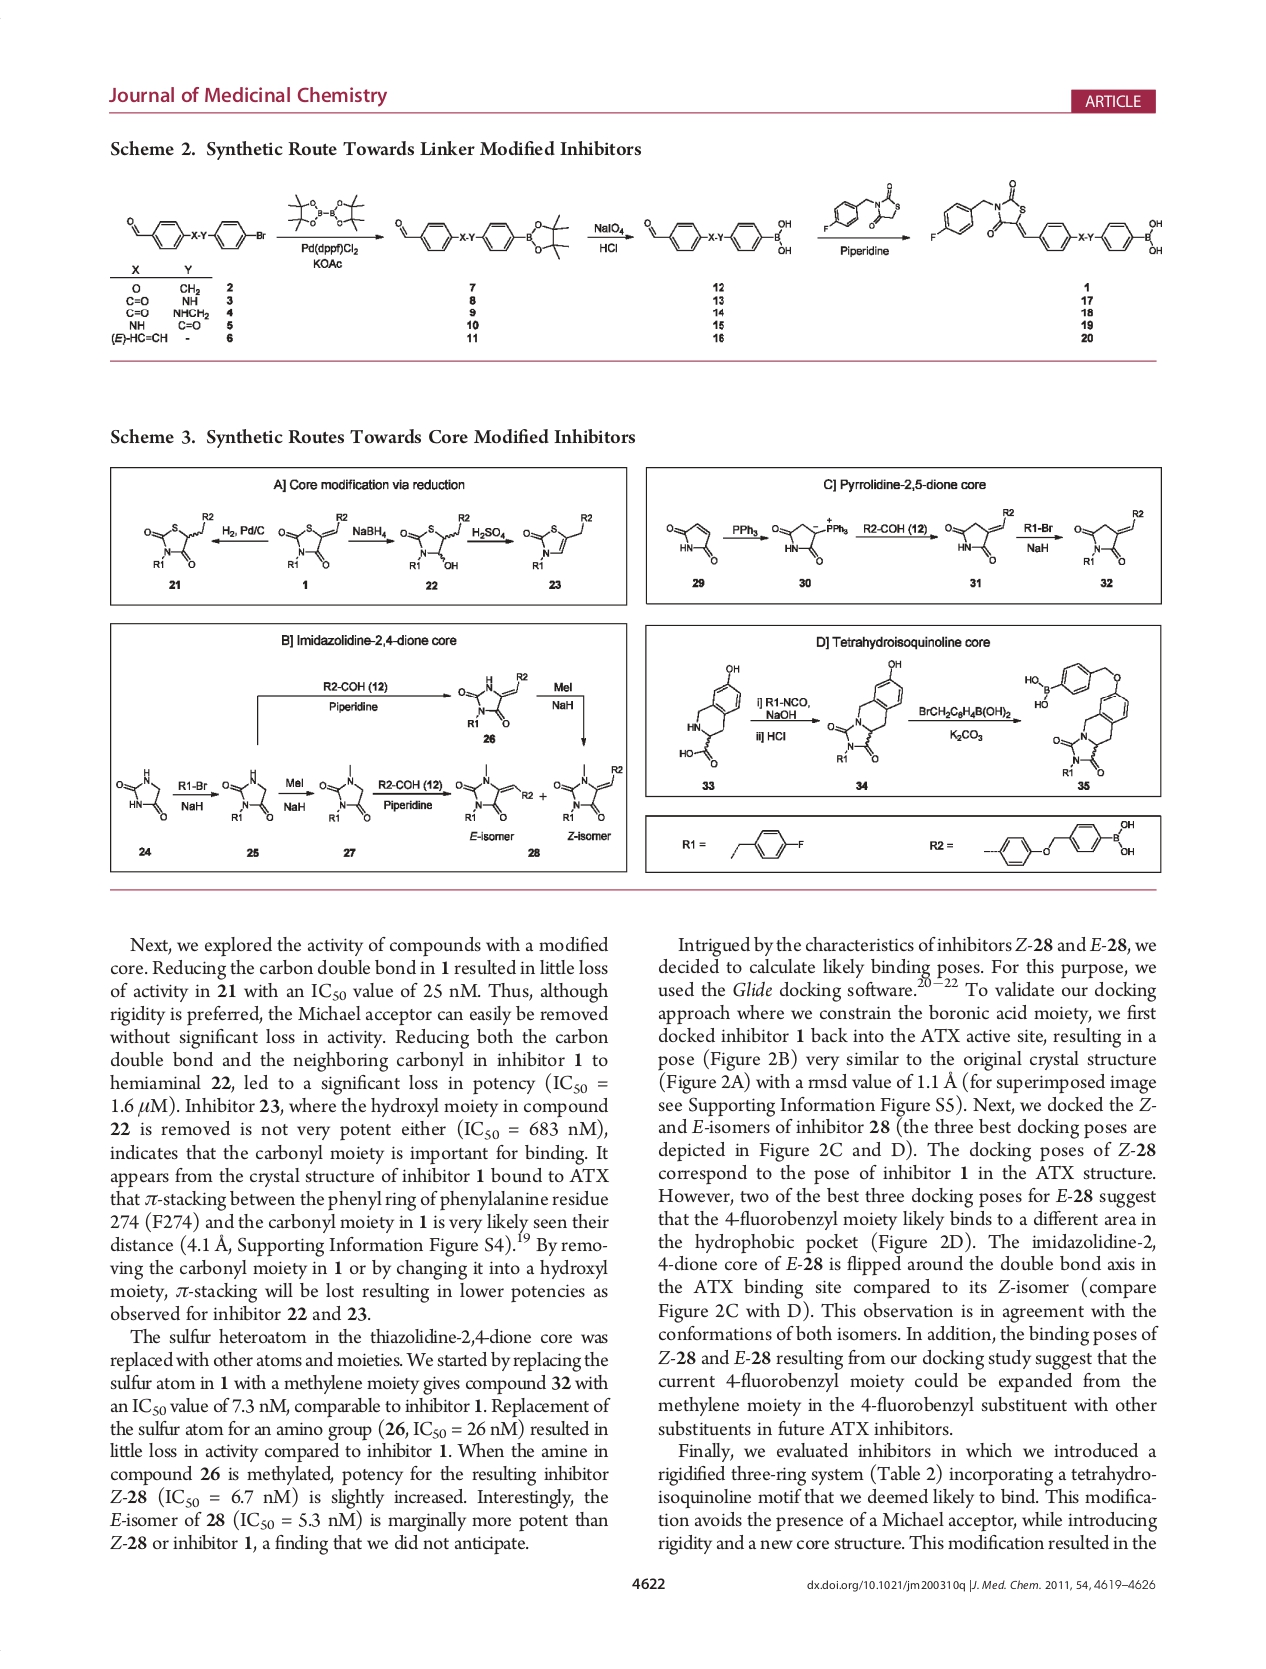exist_molecular: (930, 176, 1165, 259), (1023, 660, 1130, 781), (390, 210, 574, 262), (823, 656, 907, 765), (676, 661, 746, 770), (981, 819, 1136, 868), (122, 211, 267, 254), (640, 215, 794, 255), (137, 505, 215, 573), (452, 762, 536, 825), (1071, 507, 1148, 571), (455, 668, 532, 730), (520, 509, 594, 572), (398, 509, 469, 573), (277, 507, 348, 571), (821, 178, 902, 234), (552, 761, 622, 825), (770, 515, 850, 569), (943, 505, 1015, 565), (285, 189, 368, 231), (318, 761, 372, 825), (219, 766, 277, 825), (114, 763, 168, 825), (725, 825, 806, 863), (665, 519, 719, 568)
